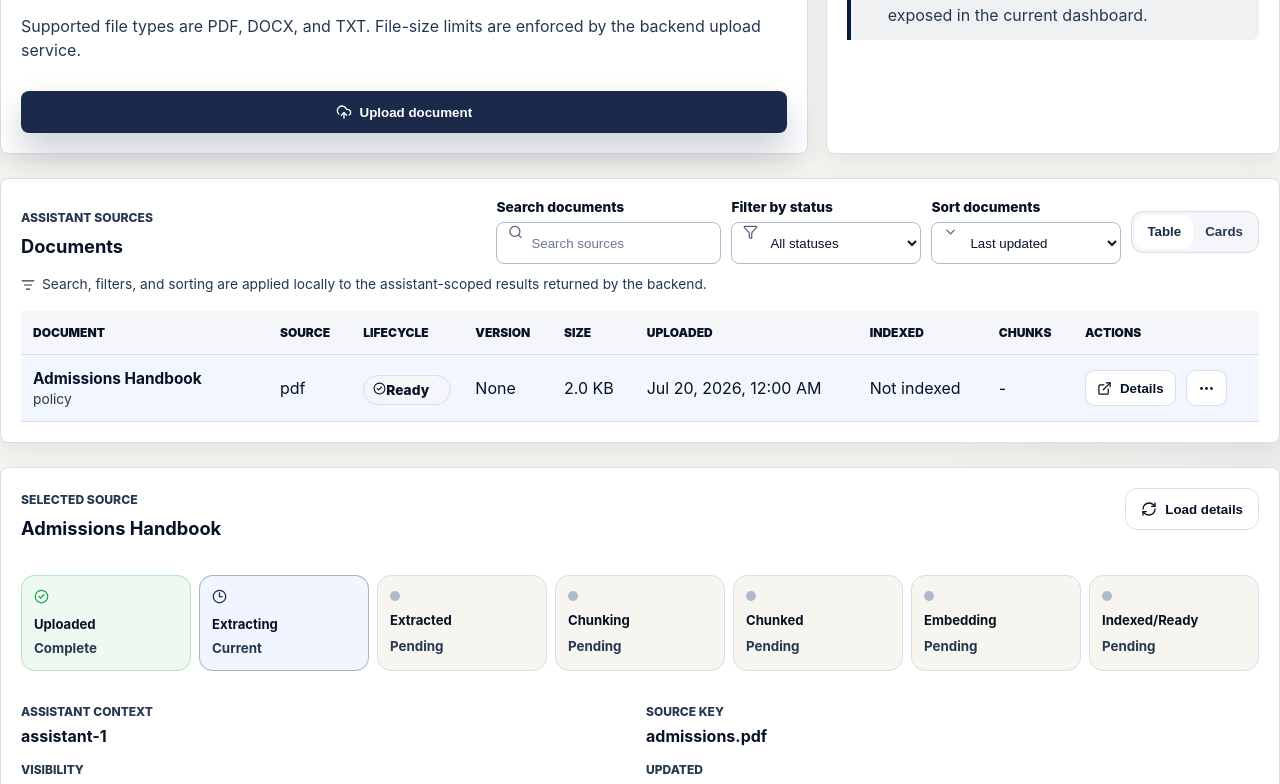
Test: KnowledgeBaseClient › shows API errors
(page scrolled)
What coordinates should you click on to do the following:
click the button with aria-label "view details"
I would click on:
 (1130, 388)
Its box is [1085,370,1176,406].
(page scrolled)
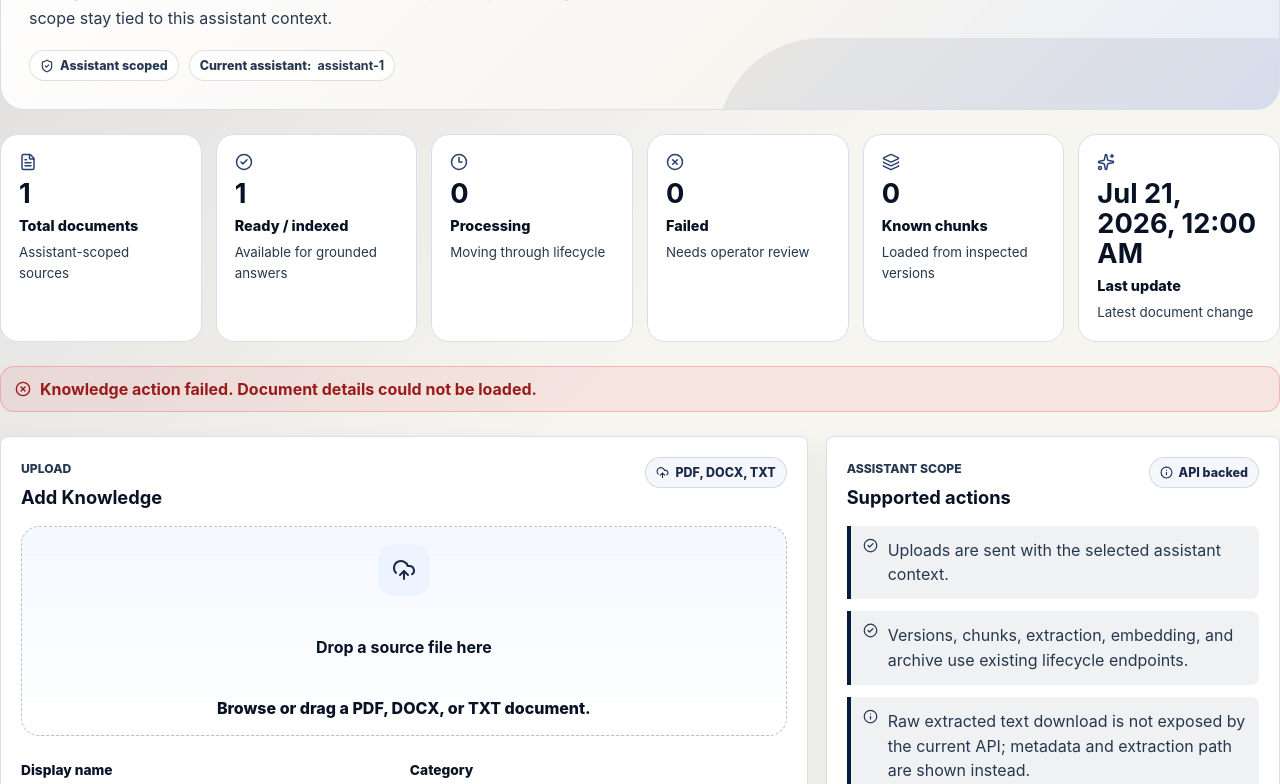
Expected: the message shows "Document details could not be loaded.", [237,378,537,398]
